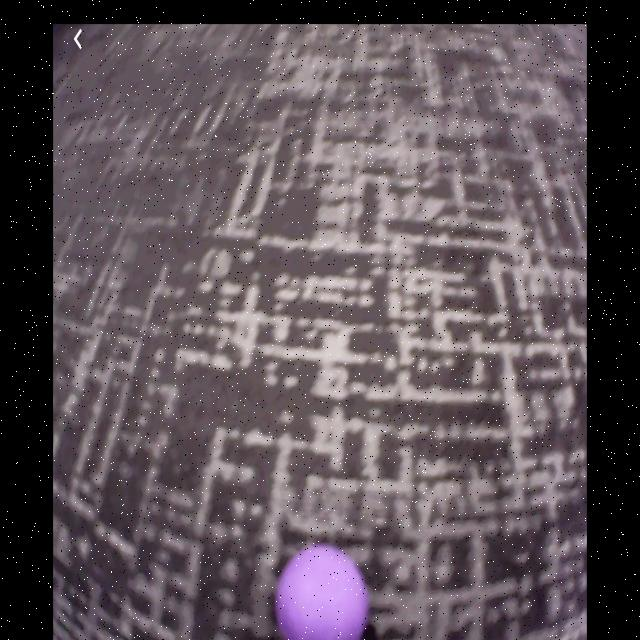ball: (278, 543, 366, 640)
